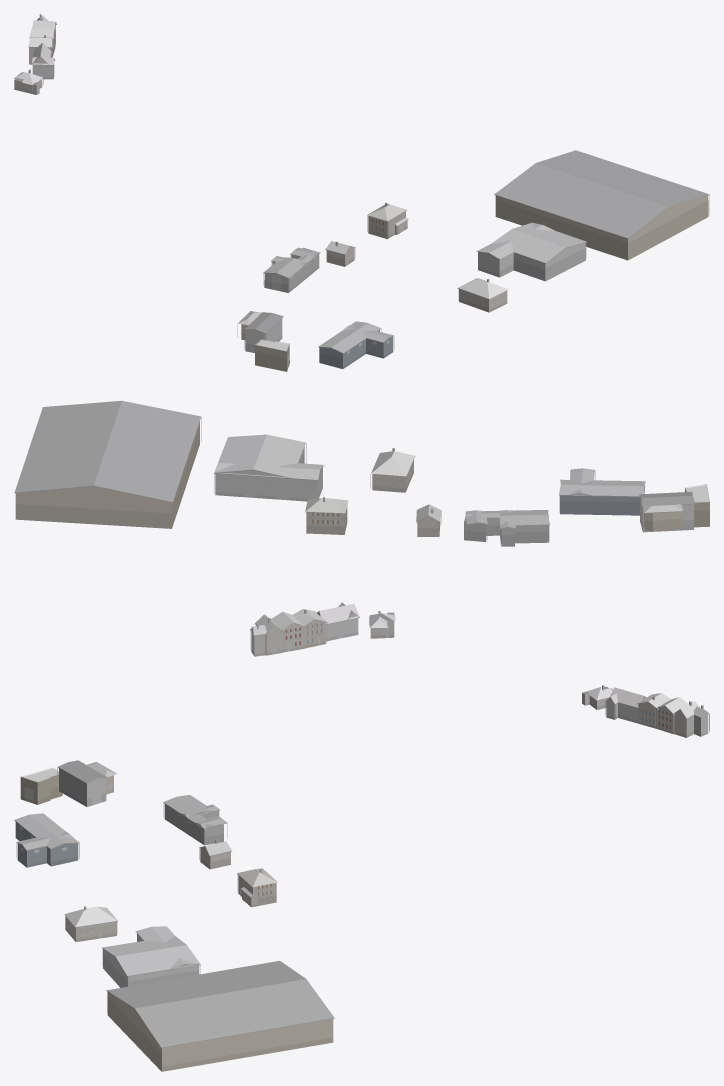
3 views of the same model, one above another, from view 1: azimuth 30°, elevation 25°; view 2: azimuth 150°, elevation 25°; view 3: azimuth 270°, elevation 25° (orthographic). The views are drawn at different scales.
Parts seen in each view (by area): view 1: bld; view 2: bld; view 3: bld.
Boxes of the visible parts, left/top/right/bottom form: bld: left=14, top=14, right=709, bottom=371; bld: left=14, top=400, right=709, bottom=656; bld: left=14, top=685, right=709, bottom=1071.
Bounding box in the file's own units: 221 × 53.34 × 239.
